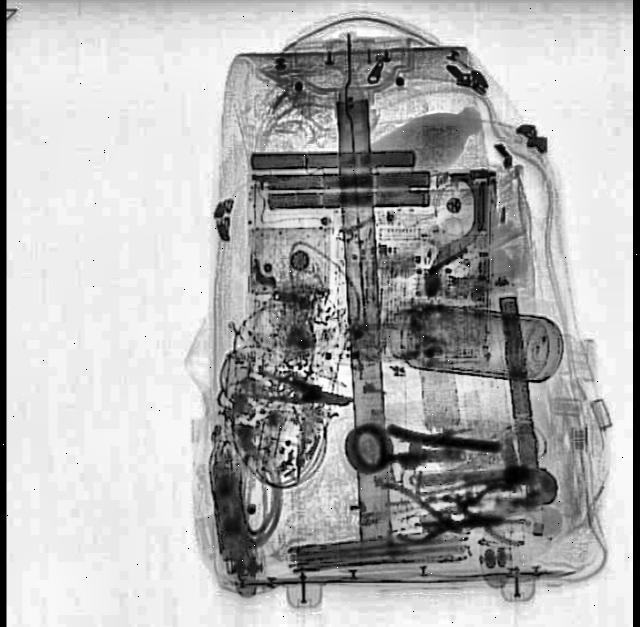Pliers: (371, 478, 466, 552), (236, 364, 354, 416), (444, 456, 535, 514), (472, 506, 532, 548)
